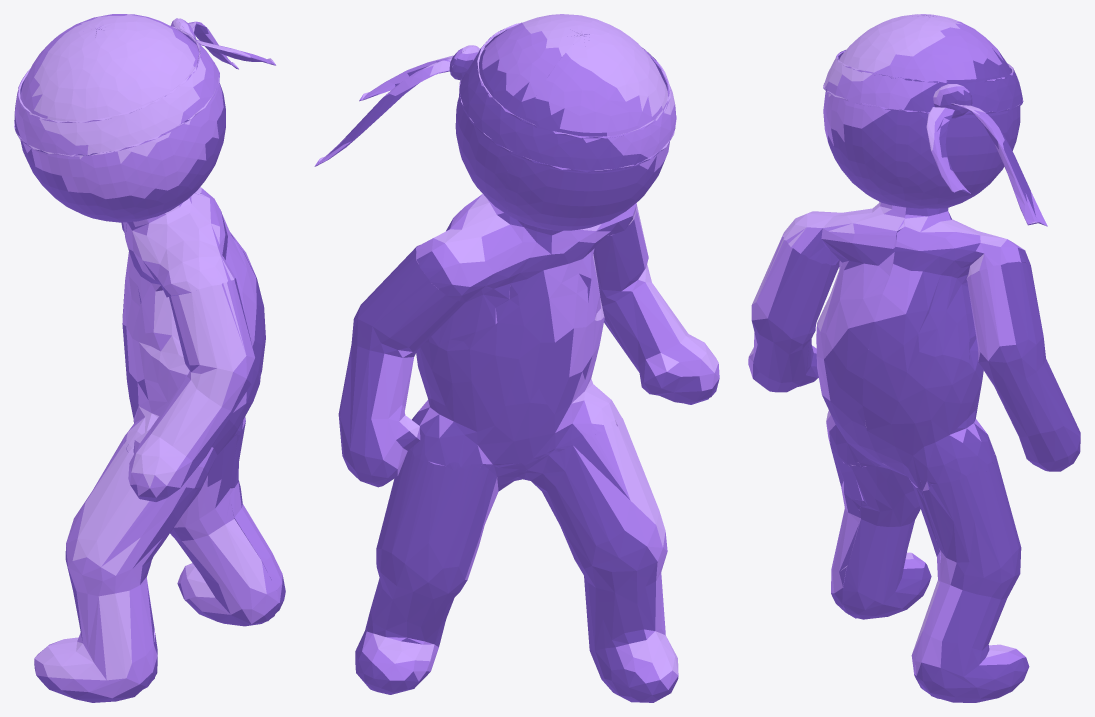
The model's file is Ninja_Echo_L.gltf.
3 renders of one model, left to right at view 1: azimuth 30°, elevation 25°; view 2: azimuth 150°, elevation 25°; view 3: azimuth 270°, elevation 25°, orthographic. The views are drawn at different scales.
Visible parts, largest first — view 1: Ninja_Echo_L_baked; view 2: Ninja_Echo_L_baked; view 3: Ninja_Echo_L_baked.
Part boxes in pixels (x1,y1,x2,y2): Ninja_Echo_L_baked: (14, 14, 285, 702); Ninja_Echo_L_baked: (314, 14, 719, 702); Ninja_Echo_L_baked: (748, 14, 1080, 702).
Bounding box in the file's own units: 0.4314 × 1 × 0.4915.
